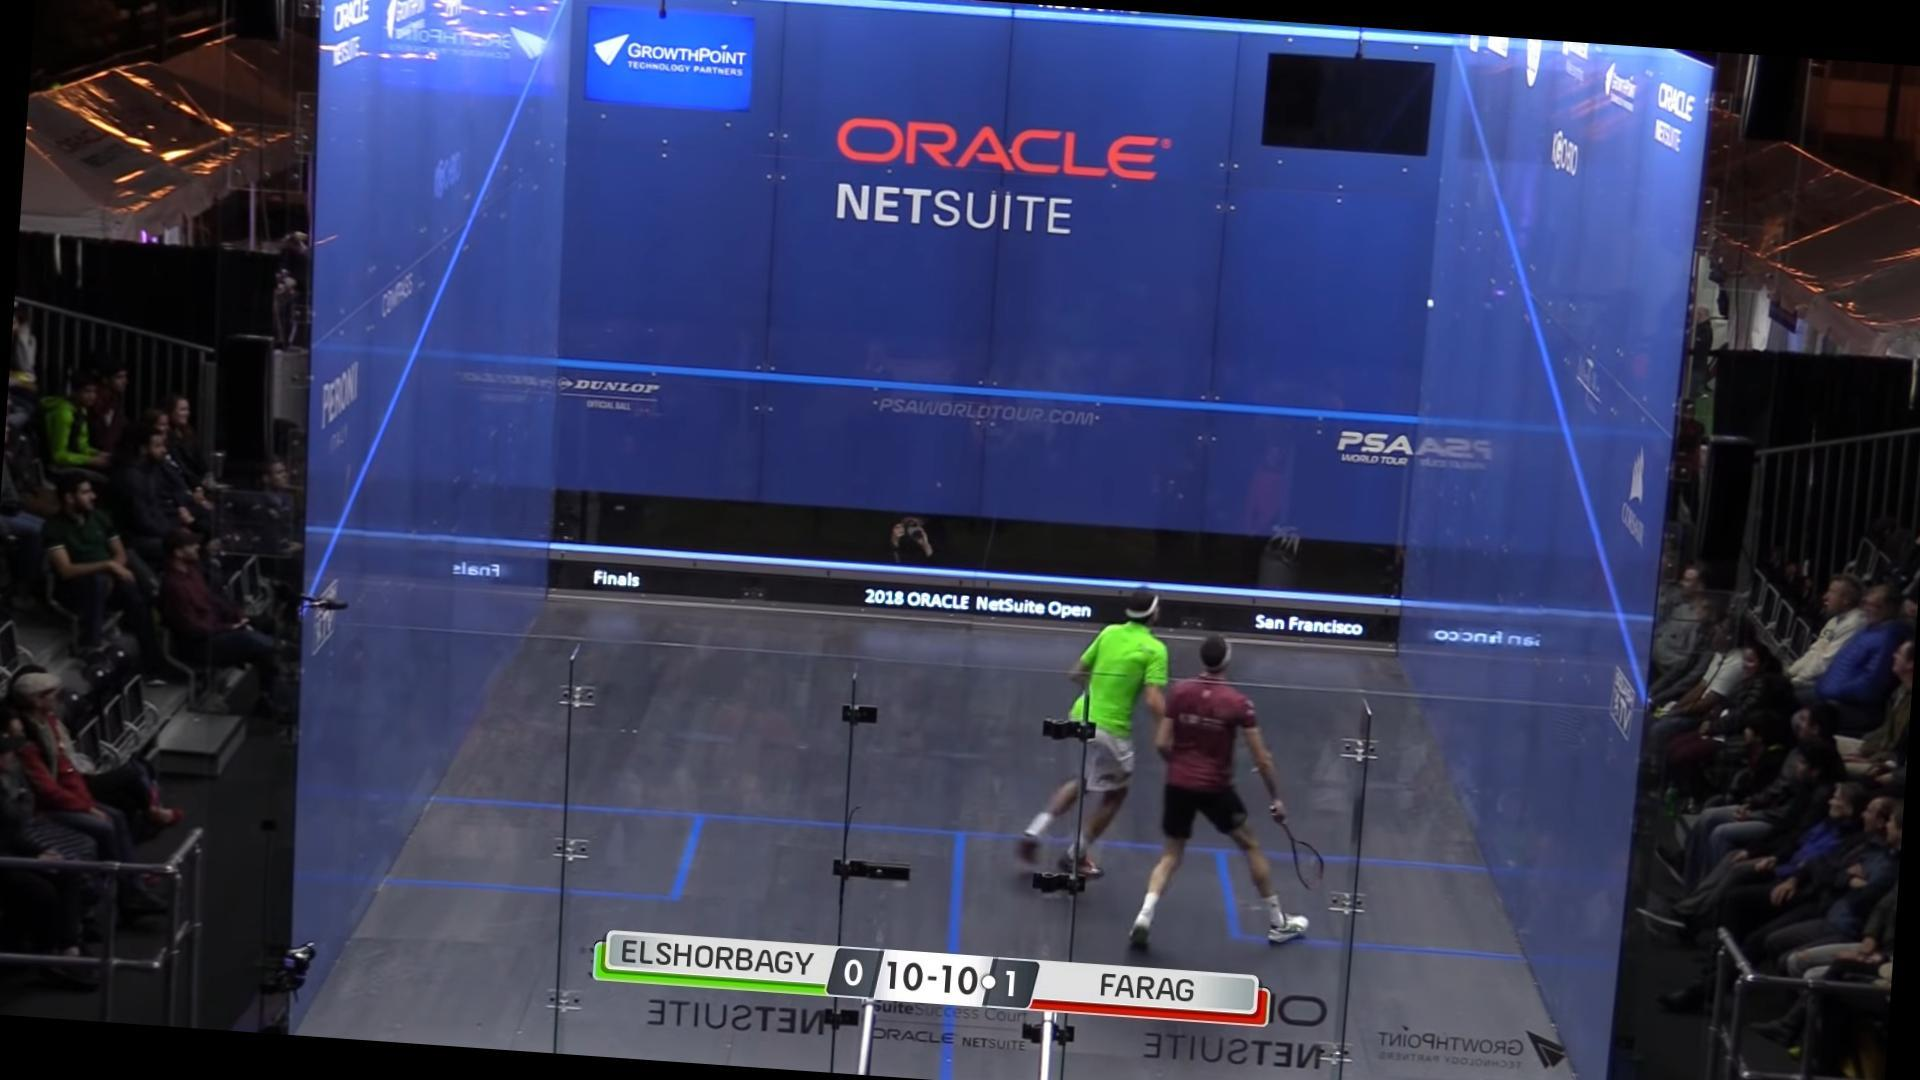Squash-Ball: (1416, 291, 1445, 319)
